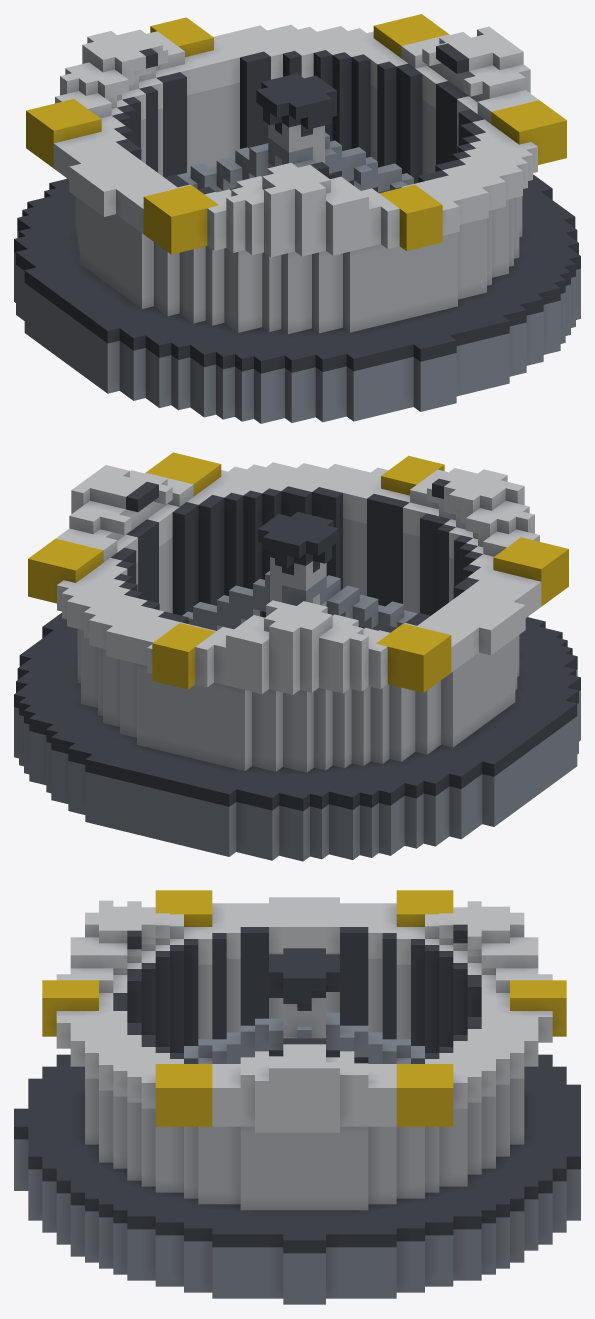
The model's file is docking_port_xs.glb.
3 views of the same model, one above another, from view 1: azimuth 30°, elevation 25°; view 2: azimuth 150°, elevation 25°; view 3: azimuth 270°, elevation 25° (orthographic). The views are drawn at different scales.
Visible parts, largest first — view 1: docking_port_xs; view 2: docking_port_xs; view 3: docking_port_xs.
Boxes of the visible parts, <box> form: docking_port_xs: <box>14,14,580,423</box>; docking_port_xs: <box>14,452,580,861</box>; docking_port_xs: <box>14,890,580,1304</box>.
Size of the model in its own units: 0.625 by 0.2656 by 0.625.
